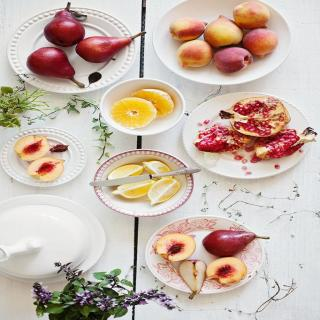Peach: (169, 2, 278, 74), (44, 13, 88, 52), (205, 256, 248, 284), (155, 232, 196, 261), (13, 134, 50, 160), (27, 156, 64, 181)
